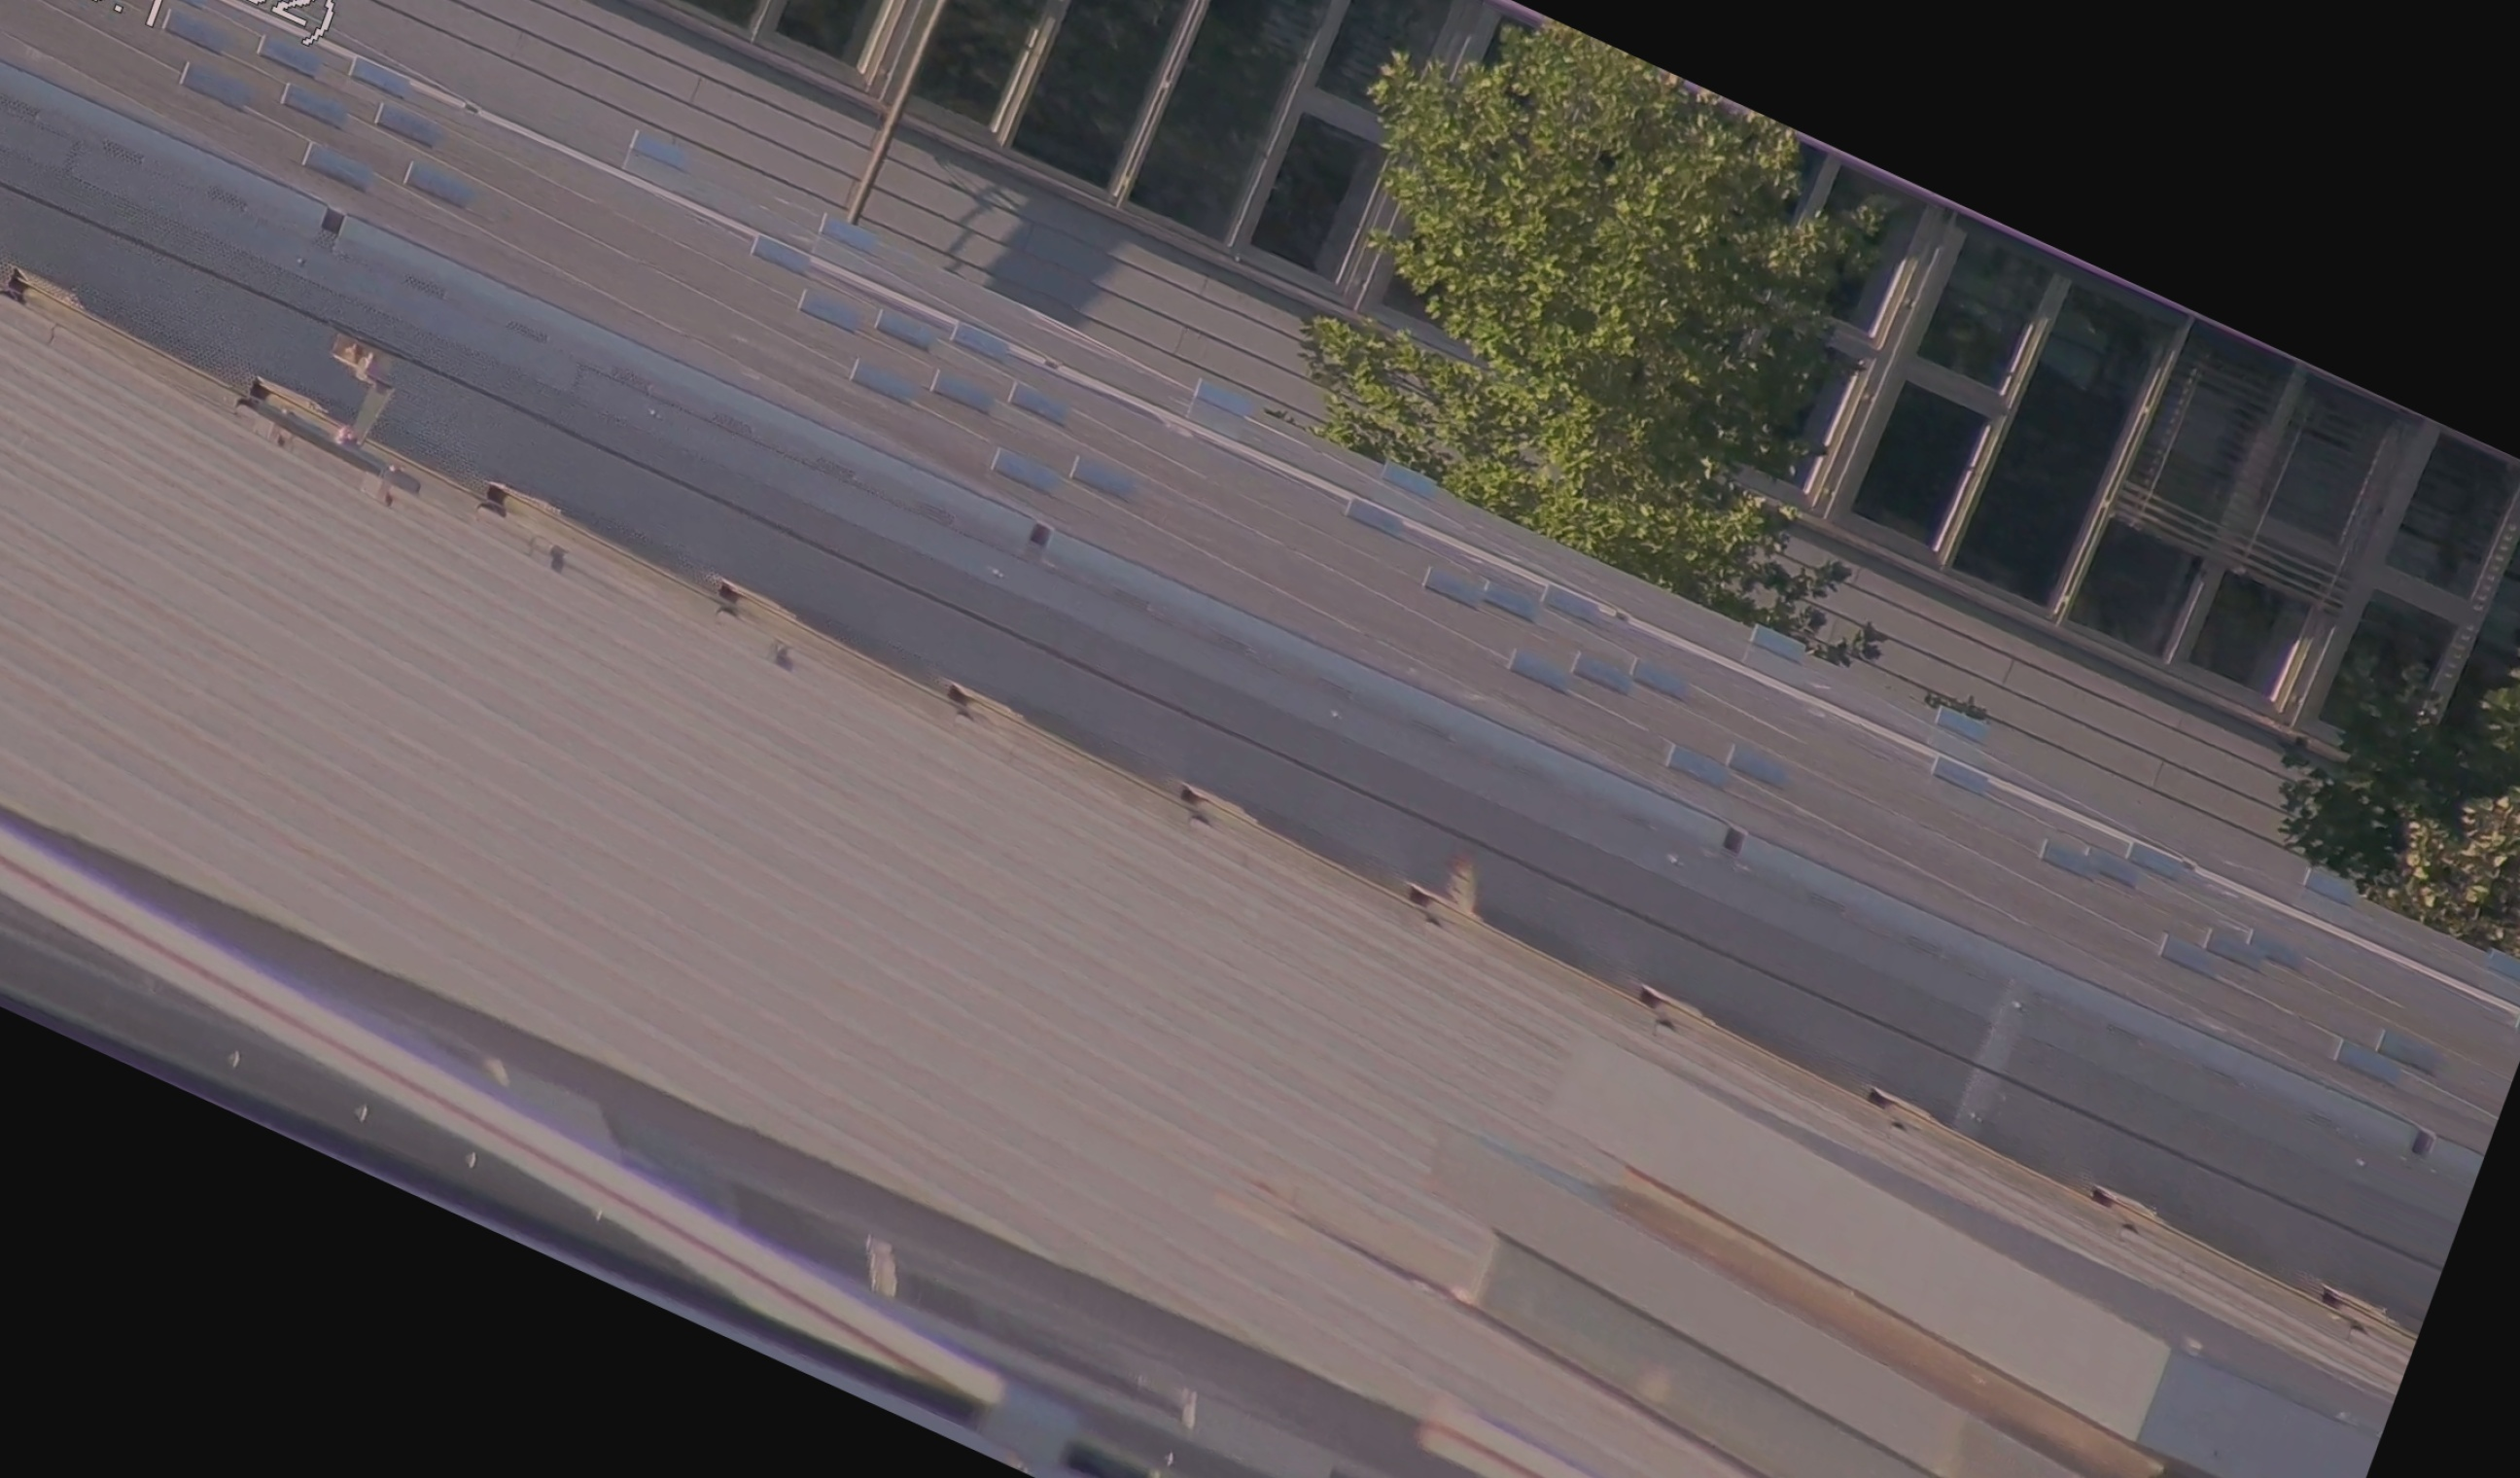Other: (1405, 823, 1514, 950)
